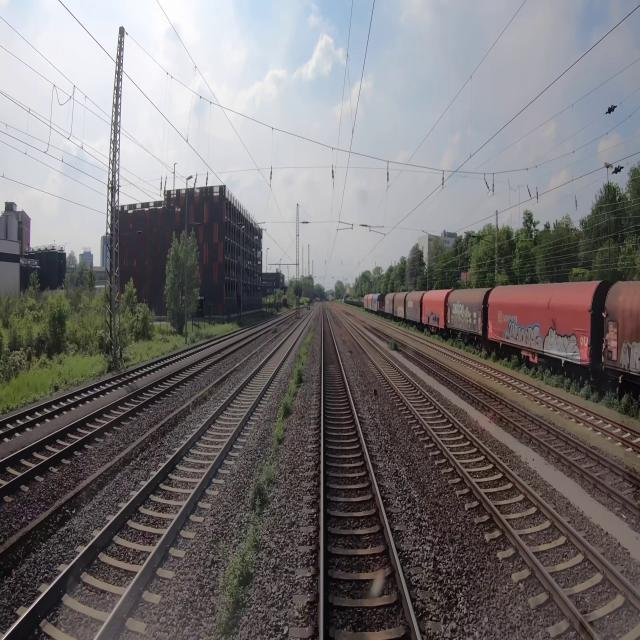Plant: (215, 320, 315, 636), (388, 339, 398, 350)
